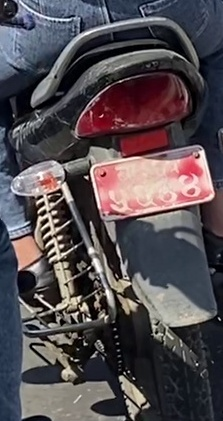license_plate: (91, 145, 214, 220)
